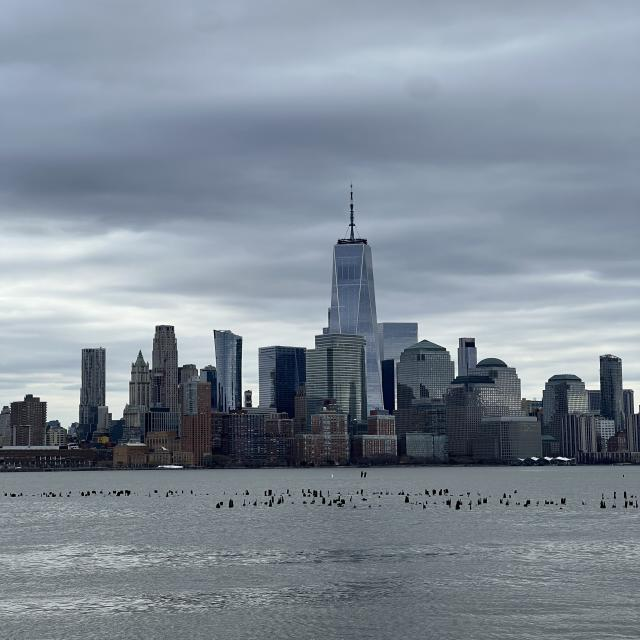WTC: (328, 182, 378, 337)
